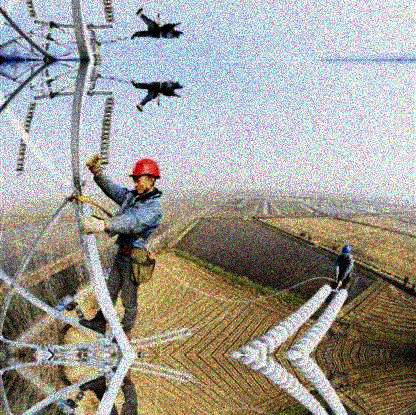helmet: (128, 157, 160, 194), (342, 245, 353, 261)
